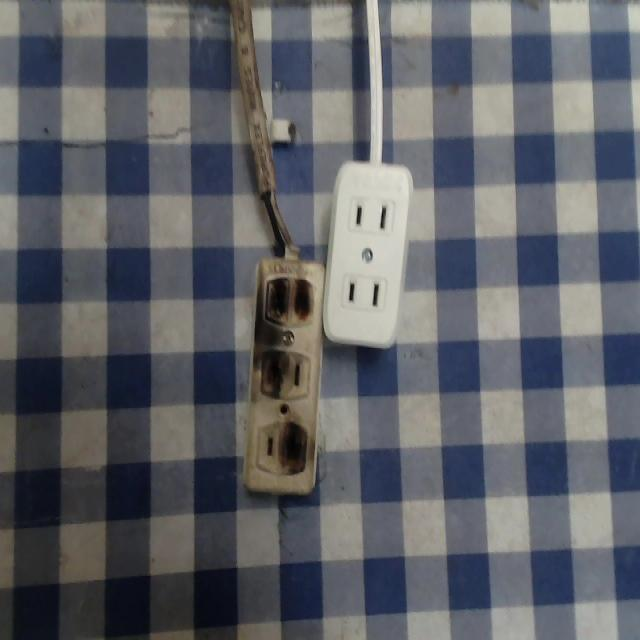-: (263, 270, 317, 338), (276, 415, 322, 488), (256, 352, 292, 407)
